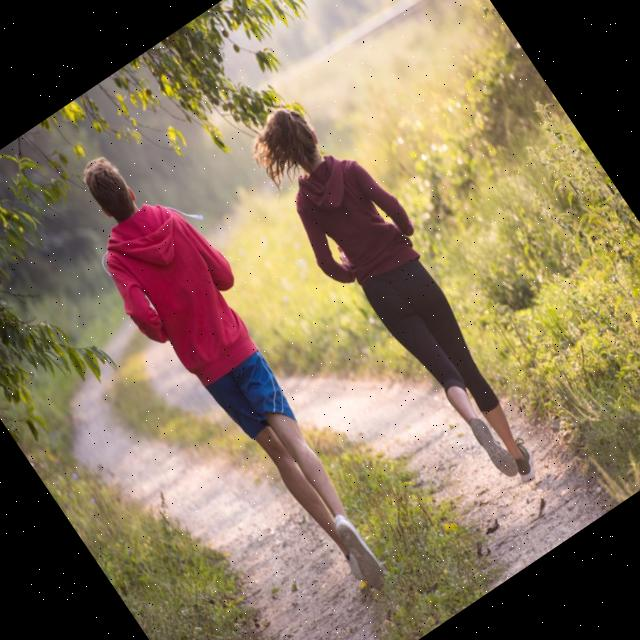Person: (45, 130, 428, 622), (233, 82, 572, 514)
